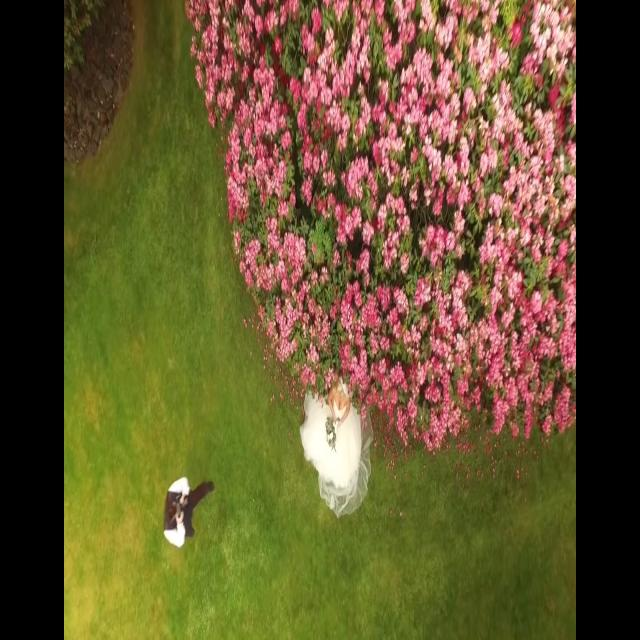humans: (161, 472, 217, 546)
